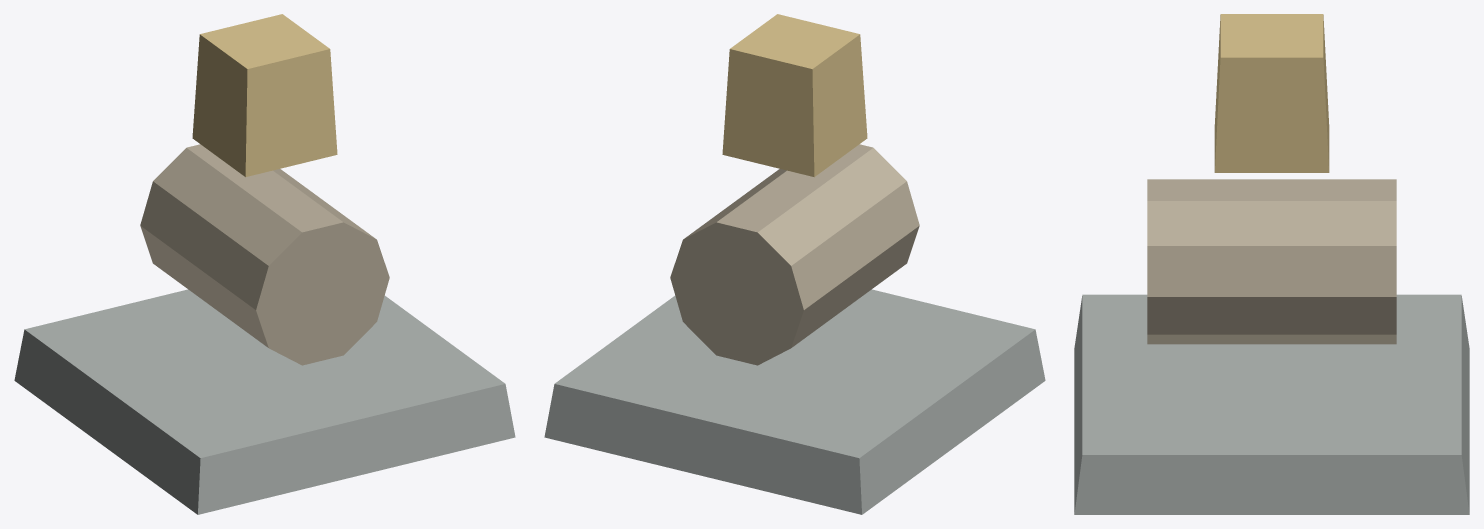
File: candle_table.glb
3 renders of one model, left to right at view 1: azimuth 30°, elevation 25°; view 2: azimuth 150°, elevation 25°; view 3: azimuth 270°, elevation 25°, orthographic. The views are drawn at different scales.
Visible parts, largest first — view 1: part_0, part_1, part_2; view 2: part_0, part_1, part_2; view 3: part_0, part_1, part_2.
Part boxes in pixels (x1,y1,x2,y2): part_0: [14, 289, 515, 514]; part_1: [140, 144, 389, 365]; part_2: [192, 14, 337, 177]; part_0: [544, 289, 1045, 514]; part_1: [670, 144, 919, 365]; part_2: [722, 14, 867, 177]; part_0: [1074, 294, 1469, 514]; part_1: [1147, 179, 1396, 344]; part_2: [1214, 14, 1329, 172].
Bounding box in the file's own units: 0.38 × 0.42 × 0.38.
